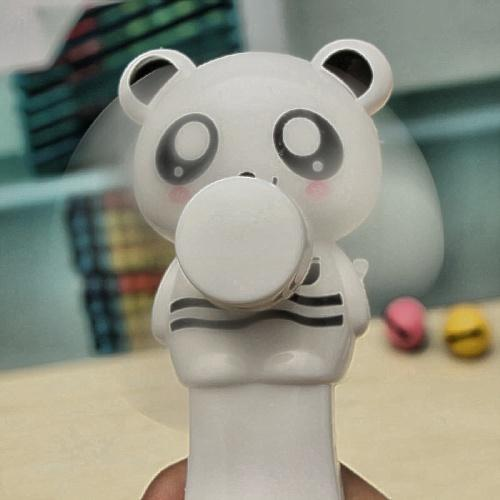fan: (108, 36, 403, 485)
